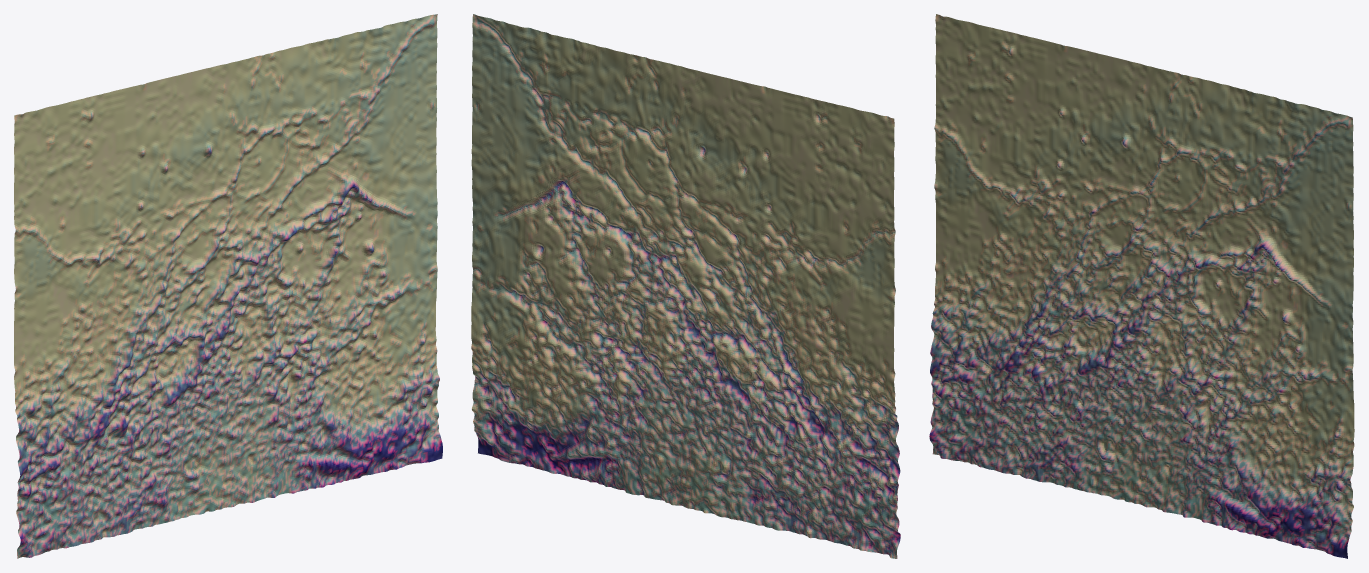
3 renders of one model, left to right at view 1: azimuth 30°, elevation 25°; view 2: azimuth 150°, elevation 25°; view 3: azimuth 330°, elevation 25°, orthographic.
Parts seen in each view (by area): view 1: world; view 2: world; view 3: world.
Boxes of the visible parts, x1,y1,x2,y2 form: world: (14, 14, 442, 558); world: (471, 14, 900, 558); world: (929, 14, 1354, 558).
Bounding box in the file's own units: 299 × 299 × 9.07.
